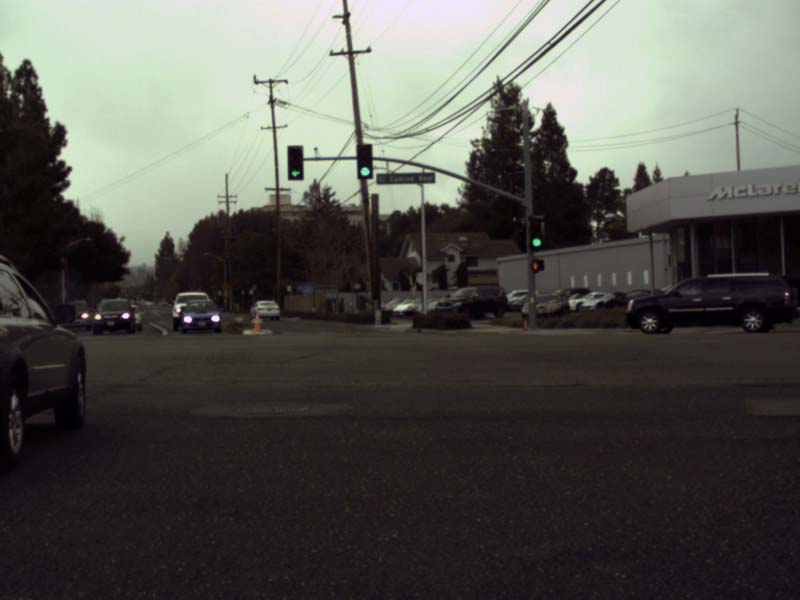Green: (356, 144, 372, 178), (287, 145, 302, 180), (530, 217, 542, 248)
Red: (517, 219, 525, 251)
